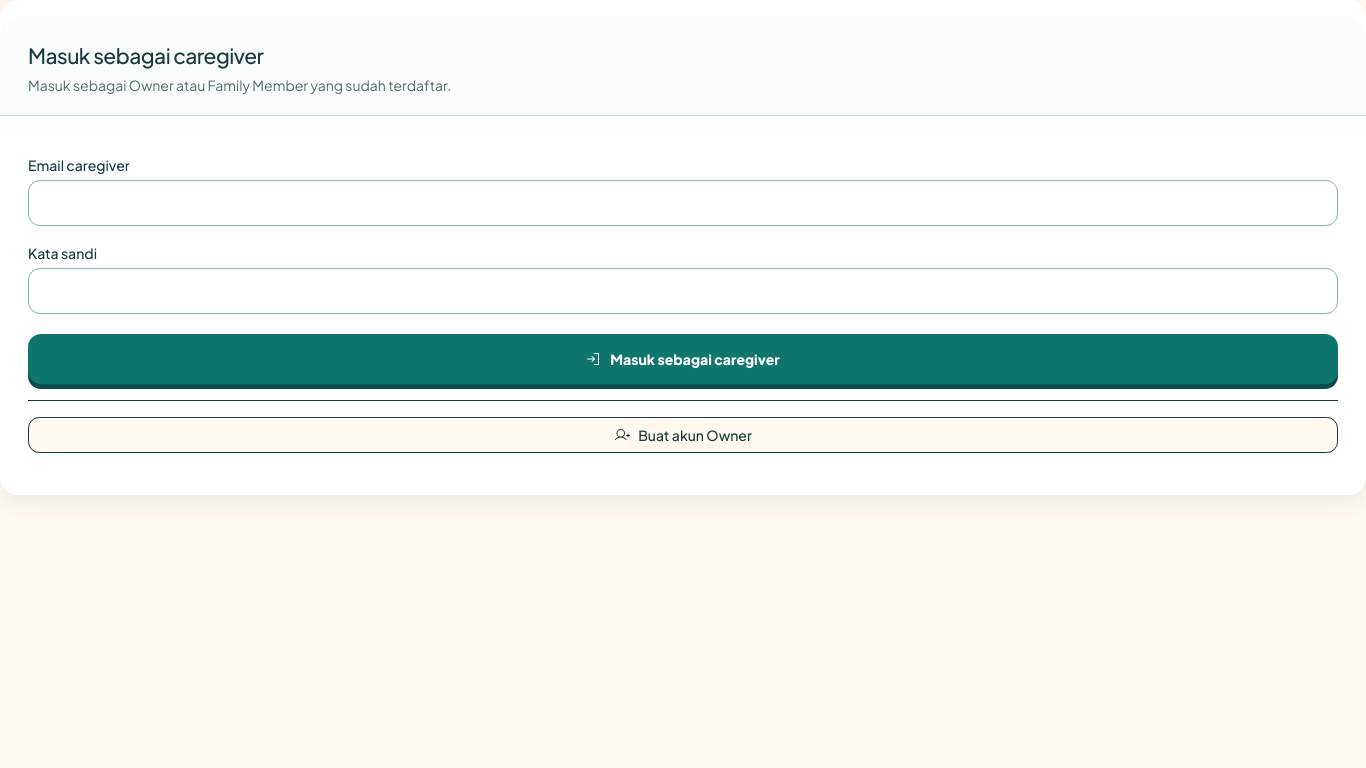
Test: caregiver auth panel › uses the verified server context after Supabase sign-in
The image size is (1366, 768).
In the field labelled "Email caregiver": (683, 203) [28,180,1338,226], type "owner@example.com"
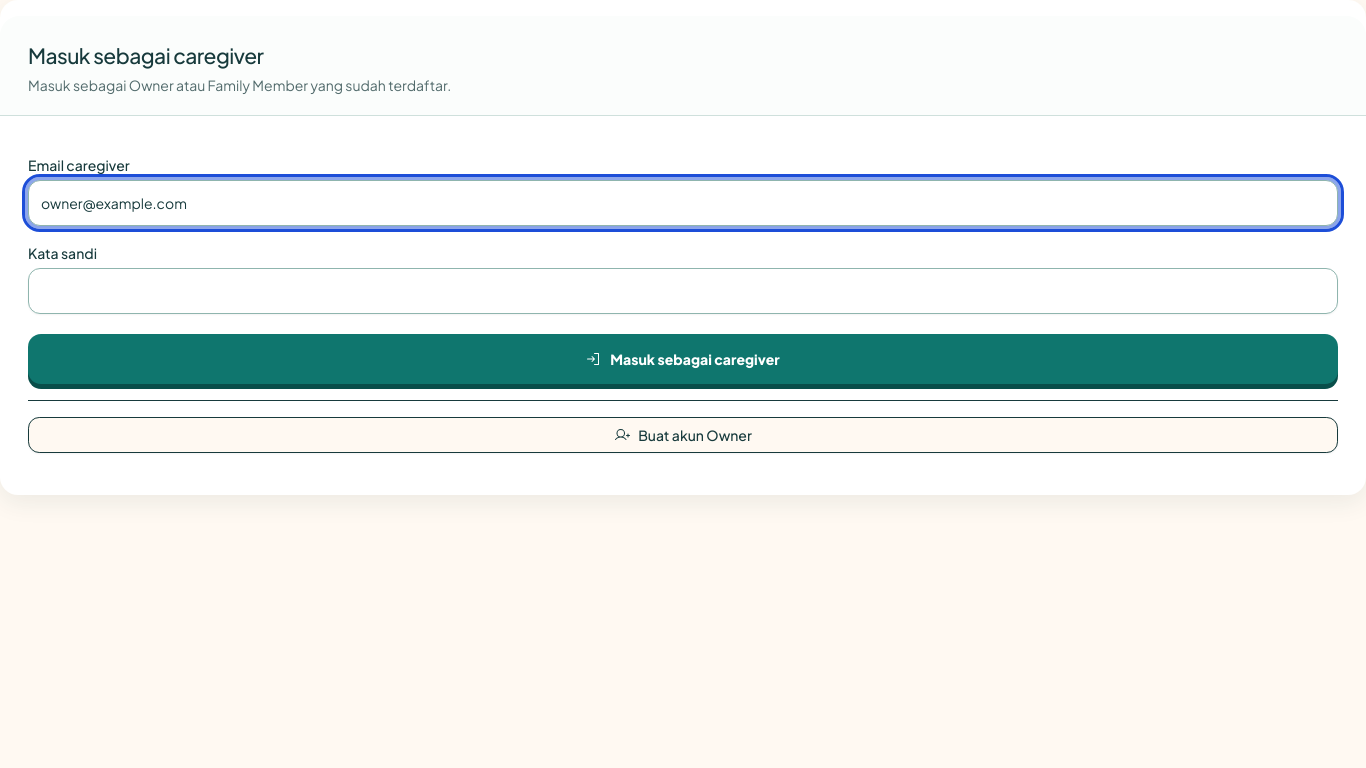
In the password field labelled "Kata sandi": (683, 291) [28,268,1338,314], type "synthetic-password"
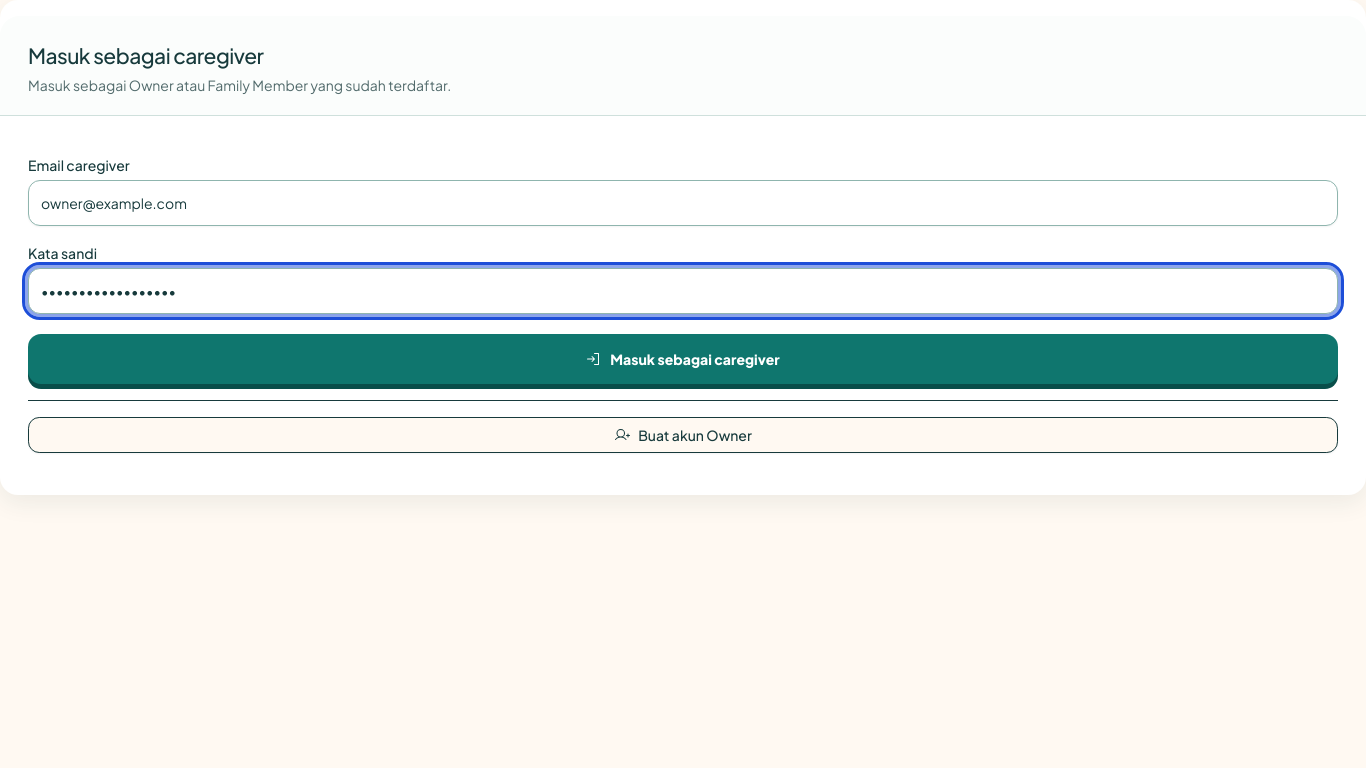
Click the button "Masuk sebagai caregiver": (683, 359) [28,334,1338,384]
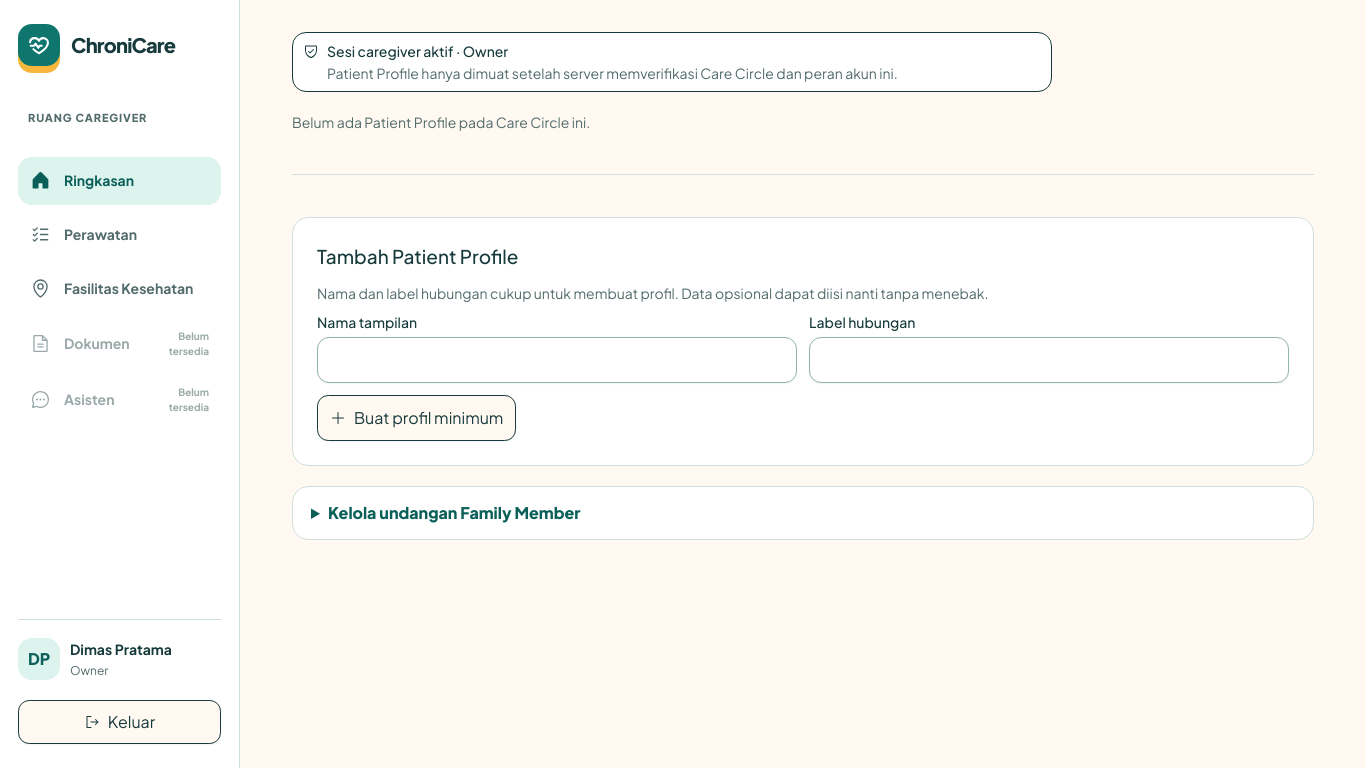
Expected: the text "Owner" is shown, [70,662,108,678]
Now the text "Dimas Pratama" is shown, box [70,638,172,660]
